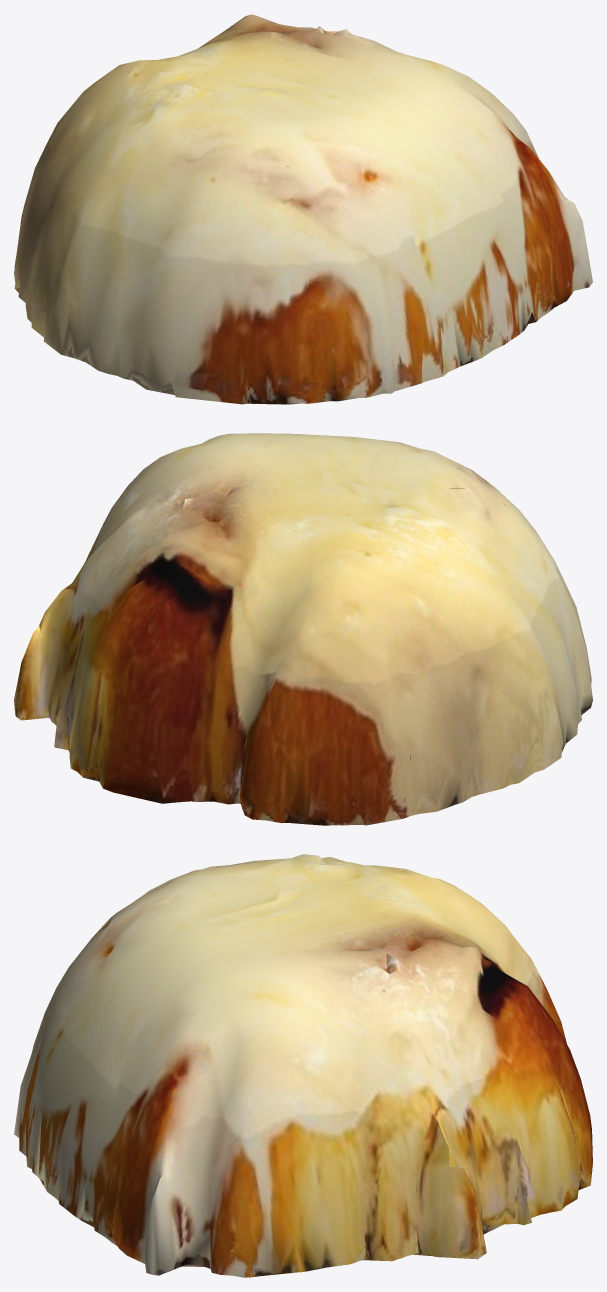
File: prop_cinnamon_roll.glb
3 views of the same model, one above another, from view 1: azimuth 30°, elevation 25°; view 2: azimuth 150°, elevation 25°; view 3: azimuth 270°, elevation 25° (orthographic). The views are drawn at different scales.
Visible parts, largest first — view 1: Pastry; view 2: Pastry; view 3: Pastry.
Boxes of the visible parts, x1,y1,x2,y2 form: Pastry: (14,14,592,404); Pastry: (14,433,592,825); Pastry: (14,854,592,1277).
Size of the model in its own units: 0.0995 by 0.0468 by 0.0962.
1 material, 1 textured.
